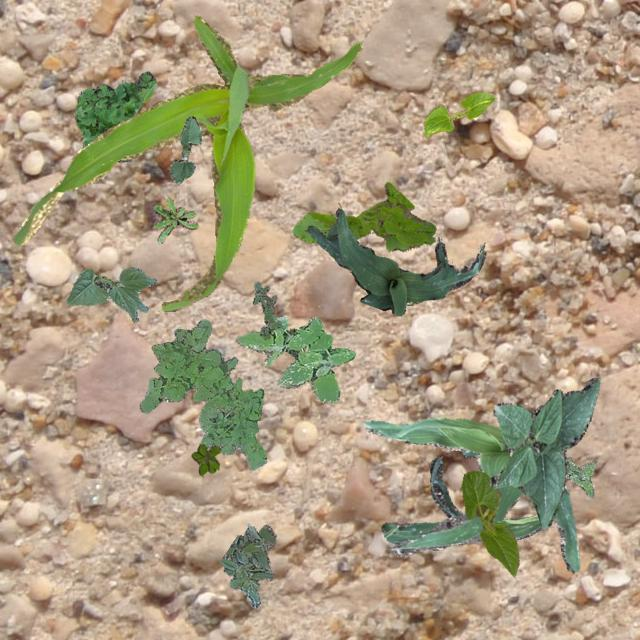crop: (12, 14, 362, 310), (364, 416, 578, 572), (306, 208, 484, 314), (488, 376, 600, 530), (381, 456, 554, 544), (460, 470, 518, 576), (66, 266, 156, 321), (422, 92, 493, 136), (168, 116, 200, 182), (460, 448, 478, 458)
weed: (138, 318, 266, 470), (234, 316, 354, 402), (290, 182, 434, 250), (74, 70, 156, 160), (220, 524, 276, 606), (152, 196, 198, 242), (252, 280, 280, 338), (566, 456, 596, 496), (190, 442, 220, 474)
